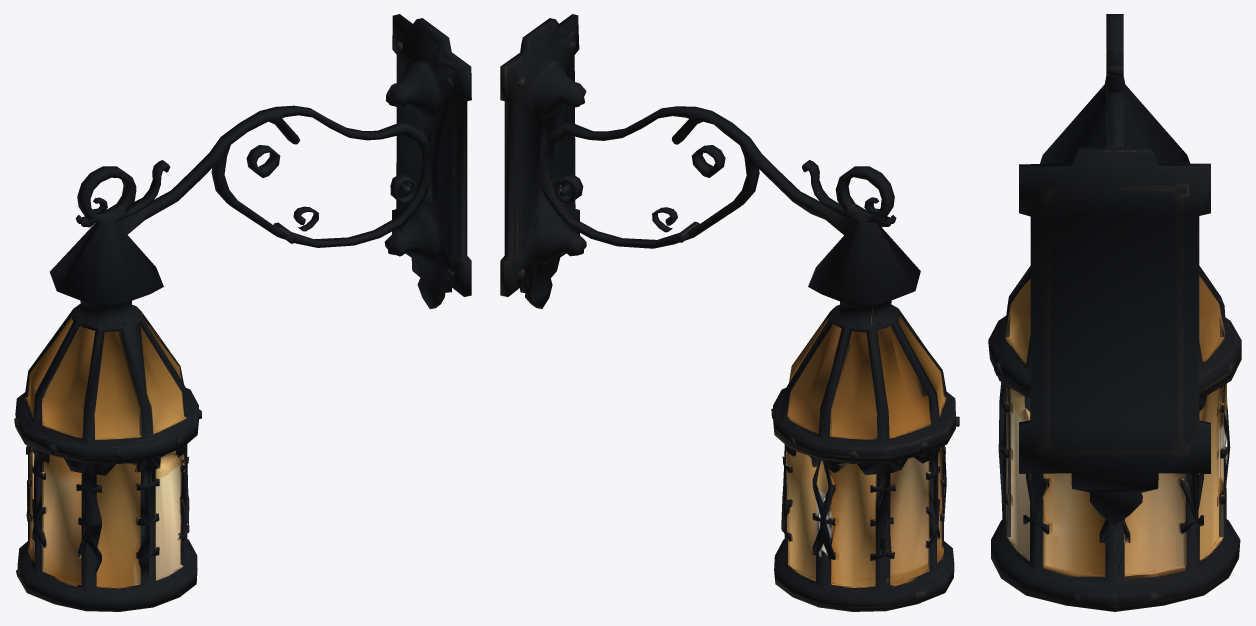
3 renders of one model, left to right at view 1: azimuth 30°, elevation 25°; view 2: azimuth 150°, elevation 25°; view 3: azimuth 270°, elevation 25°, orthographic. The views are drawn at different scales.
Size of the model in its own units: 0.8813 by 0.9526 by 0.3521.
1 material, 1 textured.
